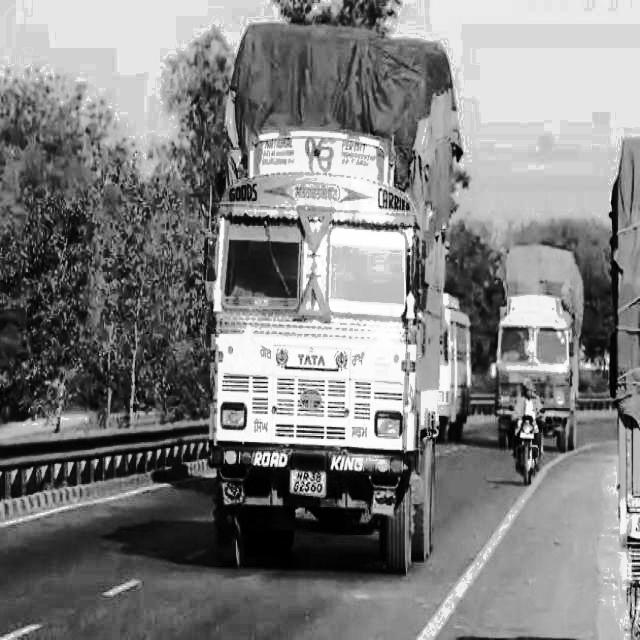HCV: (194, 9, 458, 605)
